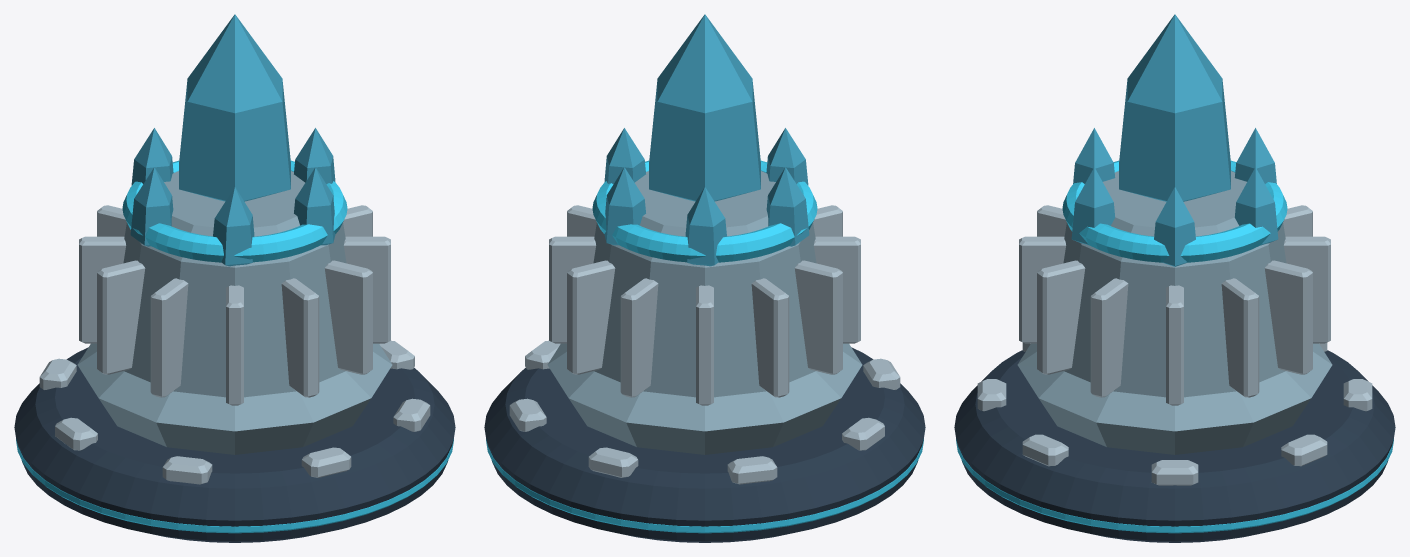
File: freeze.obj
The picture shows the model from 3 angles, left to right: view 1: azimuth 30°, elevation 25°; view 2: azimuth 150°, elevation 25°; view 3: azimuth 270°, elevation 25°; orthographic projection.
Parts seen in each view (by area): view 1: freeze; view 2: freeze; view 3: freeze.
Part boxes in pixels (box(x1,y1,x2,y2)): freeze: box(14, 14, 455, 542); freeze: box(484, 14, 925, 542); freeze: box(954, 14, 1395, 542).
Size of the model in its own units: 0.294 by 0.333 by 0.294.
